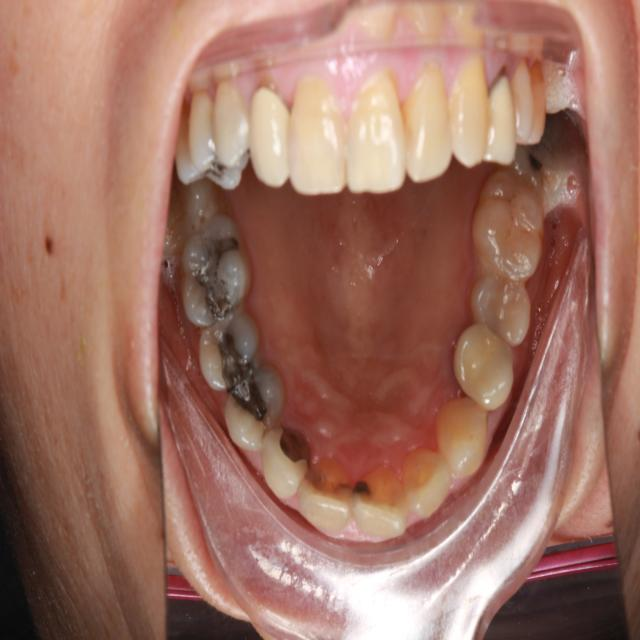tooth: (464, 162, 551, 285), (178, 213, 259, 338), (447, 317, 527, 420), (192, 306, 267, 402), (429, 383, 500, 484), (220, 363, 283, 460), (469, 267, 539, 353), (295, 454, 358, 546), (254, 419, 315, 509), (349, 460, 416, 540), (394, 444, 456, 517), (508, 139, 561, 197), (161, 184, 225, 229)
